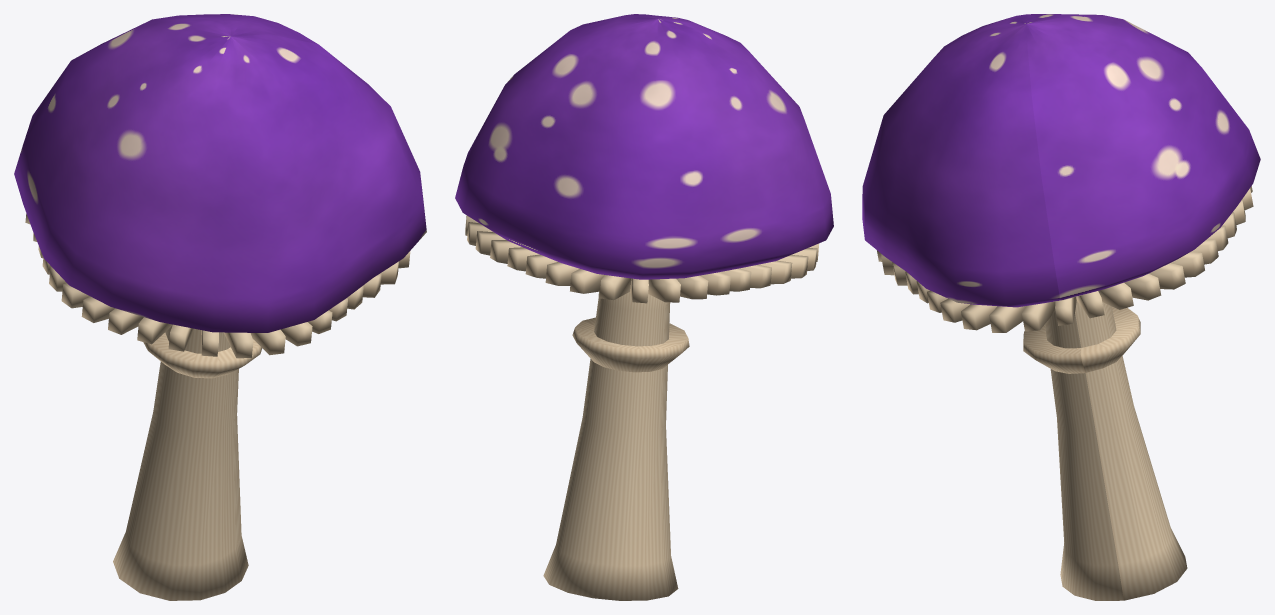
Rendered from mushroom_violet_lean.glb.
3 renders of one model, left to right at view 1: azimuth 30°, elevation 25°; view 2: azimuth 150°, elevation 25°; view 3: azimuth 270°, elevation 25°, orthographic. The views are drawn at different scales.
Visible parts, largest first — view 1: mushroom_violet_lean__cap, mushroom_violet_lean__stem; view 2: mushroom_violet_lean__cap, mushroom_violet_lean__stem; view 3: mushroom_violet_lean__cap, mushroom_violet_lean__stem.
Boxes of the visible parts, <box> form: mushroom_violet_lean__cap: <box>14,14,426,332</box>; mushroom_violet_lean__stem: <box>25,213,410,600</box>; mushroom_violet_lean__cap: <box>455,14,833,279</box>; mushroom_violet_lean__stem: <box>465,215,819,600</box>; mushroom_violet_lean__cap: <box>862,14,1260,307</box>; mushroom_violet_lean__stem: <box>877,186,1253,600</box>.
Bounding box in the file's own units: 0.9044 × 1.41 × 0.9118.
2 materials, 2 textured.
